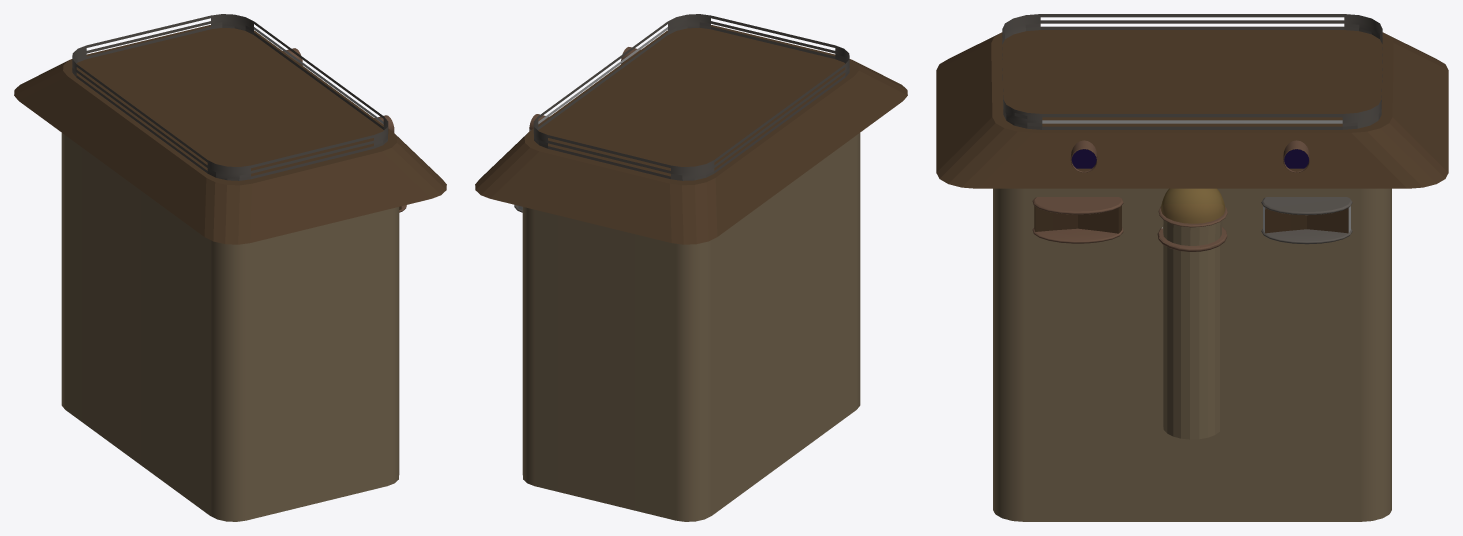
Rendered from BigHouse.fbx.
The picture shows the model from 3 angles, left to right: view 1: azimuth 30°, elevation 25°; view 2: azimuth 150°, elevation 25°; view 3: azimuth 270°, elevation 25°; orthographic projection. The views are drawn at different scales.
Visible parts, largest first — view 1: Cube_LOD3; view 2: Cube_LOD3; view 3: Cube_LOD3.
Part boxes in pixels (bbox=[...]): Cube_LOD3: bbox=[14, 14, 446, 521]; Cube_LOD3: bbox=[475, 14, 907, 521]; Cube_LOD3: bbox=[936, 14, 1448, 521].
Size of the model in its own units: 9.99 by 13.37 by 15.3.
